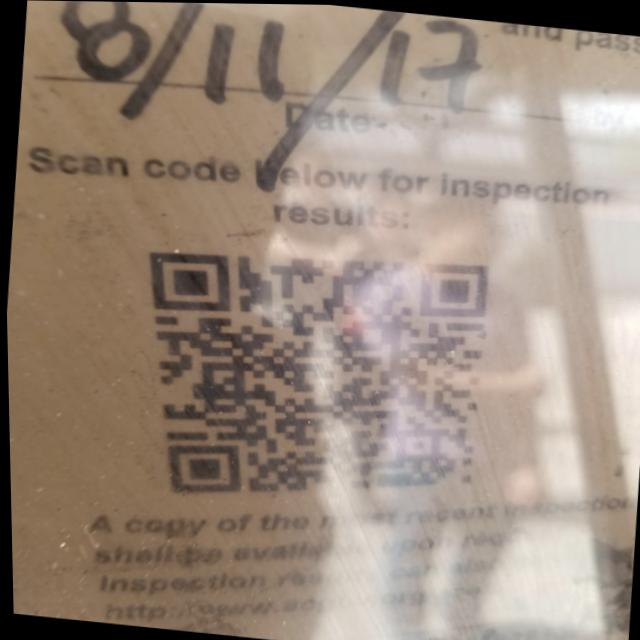QR_CODE: (107, 207, 505, 535)
